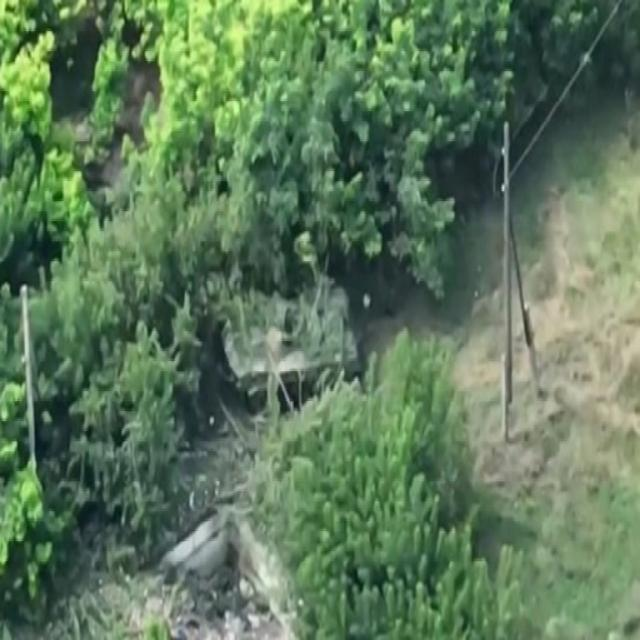APC-IFV: (219, 289, 365, 404)
